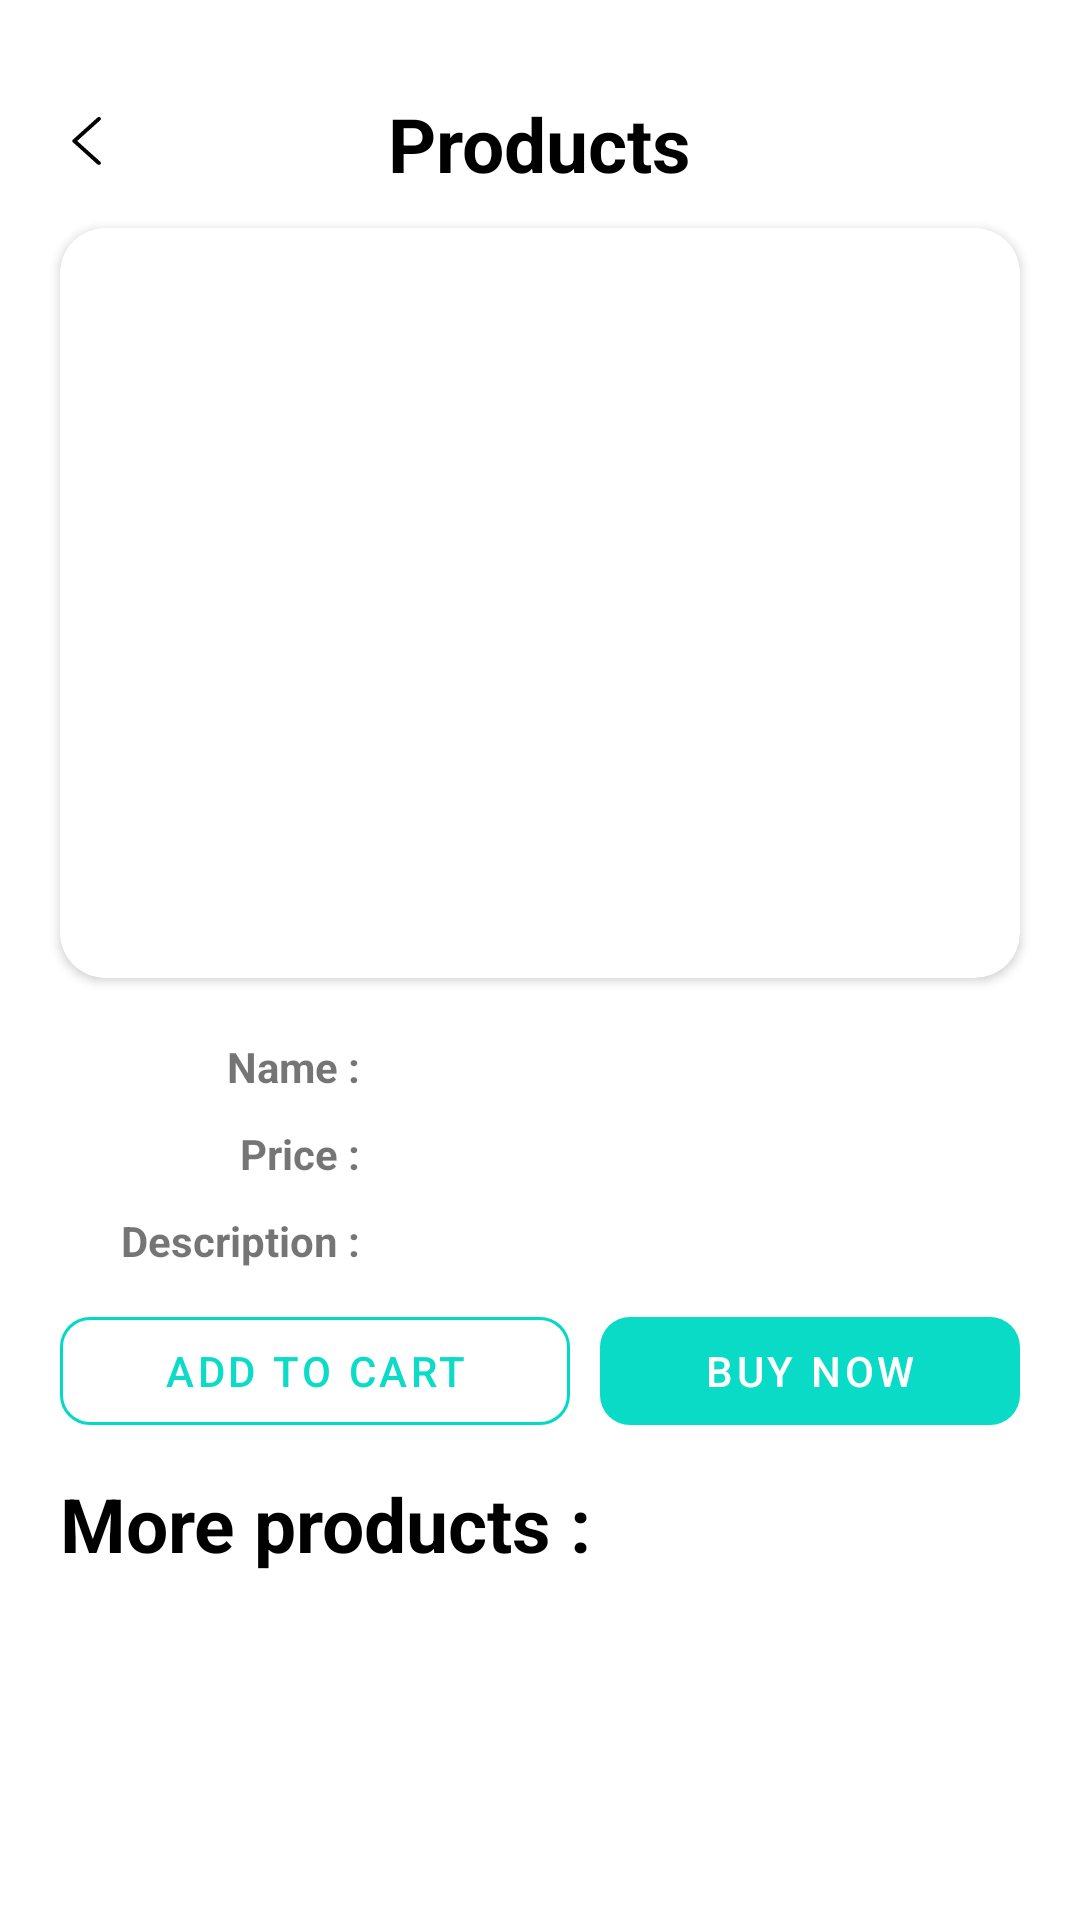

Icons on this 1080×1920 Android screen, each with the point to tap as (x=x, y=y):
backicon: (x=86, y=141)
